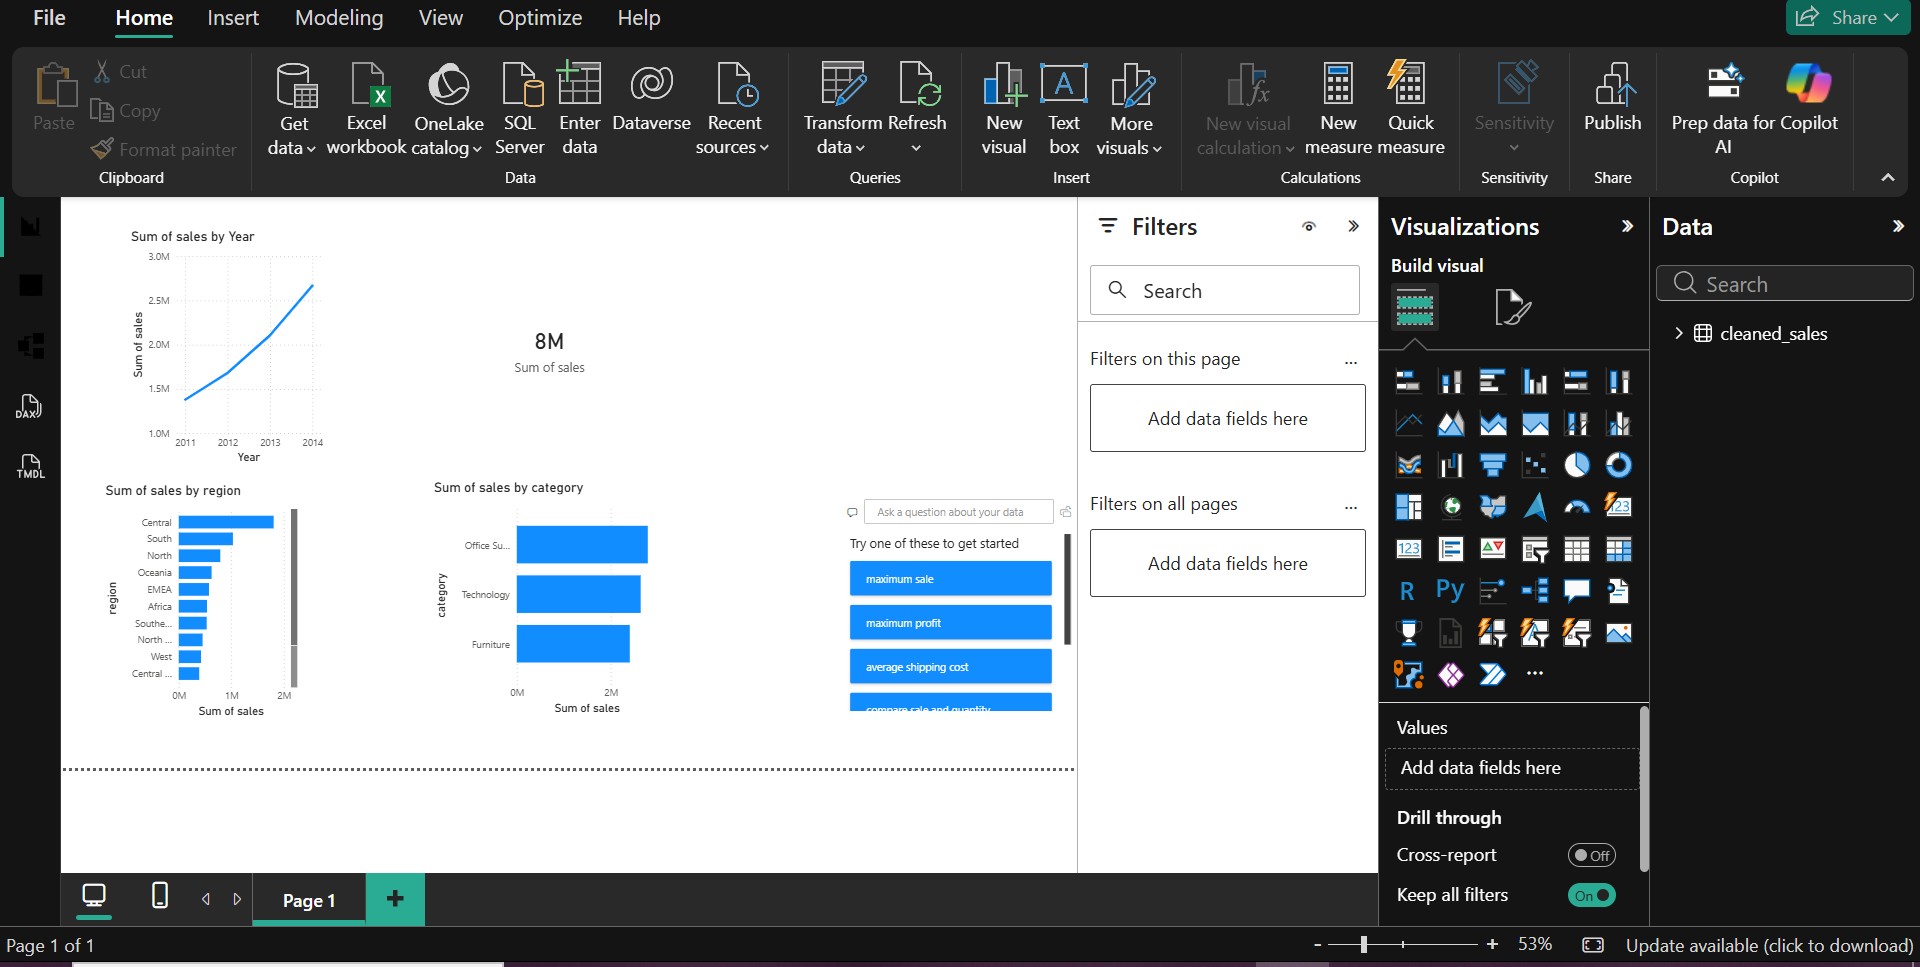

The page's visual inventory and layout, read from the dashboard file:
{"tool":"powerbi","page":{"name":"Page 1","canvas":[1280,720],"ordinal":0},"visuals":[{"type":"qnaVisual","box":[980,356.2,300,300],"z":0},{"type":"clusteredBarChart","fields":{"Y":["Sum(cleaned_sales.sales)"],"Category":["cleaned_sales.category"]},"box":[464.9,355.3,300.5,300.5],"z":1000},{"type":"card","fields":{"Values":["Sum(cleaned_sales.sales)"]},"box":[478.1,79.4,274,221.1],"z":2000},{"type":"lineChart","fields":{"Category":["cleaned_sales.order_date.Variation.Date Hierarchy.Year","cleaned_sales.order_date.Variation.Date Hierarchy.Quarter","cleaned_sales.order_date.Variation.Date Hierarchy.Month","cleaned_sales.order_date.Variation.Date Hierarchy.Day"],"Y":["Sum(cleaned_sales.sales)"]},"box":[83.2,39.7,251.3,300.5],"z":2001},{"type":"clusteredBarChart","fields":{"Category":["cleaned_sales.region"],"Y":["Sum(cleaned_sales.sales)"]},"box":[51,359.1,251.3,300.5],"z":2002}]}

Visuals, with their boxes on the page's 1280x720 design canvas (x1, y1, x2, y2). These are canvas units, not pixel positions in the 1920x967 screenshot, which may show the page scaled, cropped or inside an application window:
qnaVisual: x1=980, y1=356, x2=1280, y2=656
clusteredBarChart - Sum(cleaned_sales.sales) x cleaned_sales.category: x1=465, y1=355, x2=765, y2=656
card - Sum(cleaned_sales.sales): x1=478, y1=79, x2=752, y2=300
lineChart - cleaned_sales.order_date.Variation.Date Hierarchy.Year x cleaned_sales.order_date.Variation.Date Hierarchy.Quarter: x1=83, y1=40, x2=334, y2=340
clusteredBarChart - cleaned_sales.region x Sum(cleaned_sales.sales): x1=51, y1=359, x2=302, y2=660
